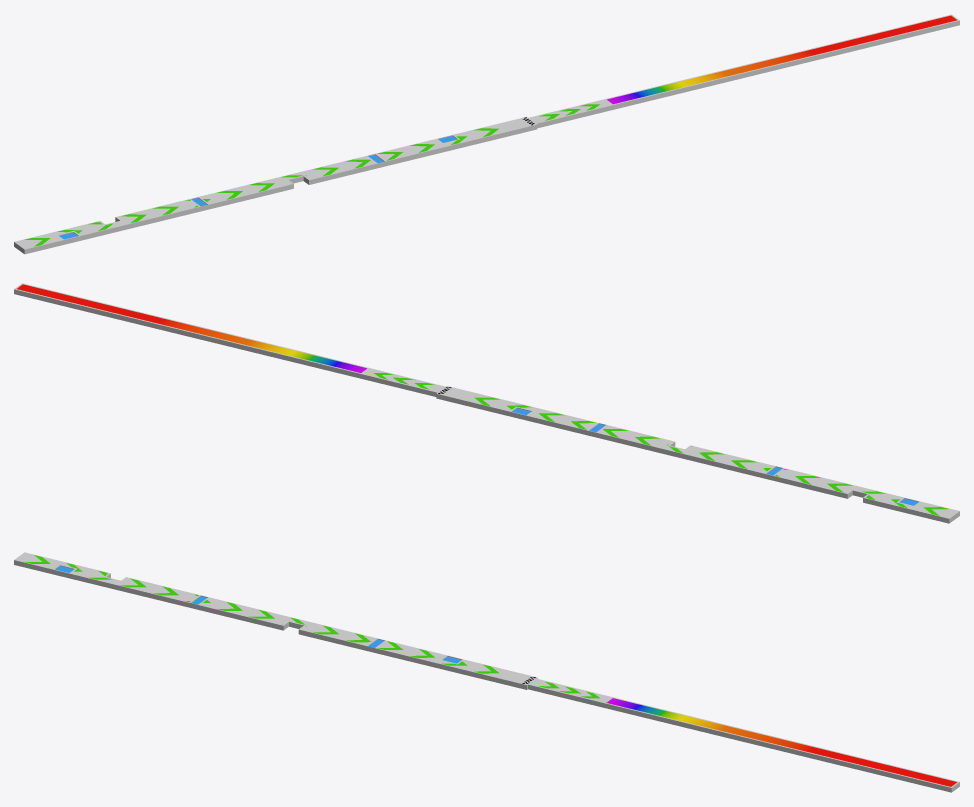
Rendered from bridgethree.fbx.
3 renders of one model, top to bottom at view 1: azimuth 30°, elevation 25°; view 2: azimuth 150°, elevation 25°; view 3: azimuth 330°, elevation 25°, orthographic.
Visible parts, largest first — view 1: Plane.006; view 2: Plane.006; view 3: Plane.006.
Boxes of the visible parts, bbox=[...] form: Plane.006: bbox=[14, 14, 959, 254]; Plane.006: bbox=[14, 283, 959, 523]; Plane.006: bbox=[14, 552, 959, 792].
Bounding box in the file's own units: 20281 × 100 × 400.
Materials: 6 (1 with a texture image).
